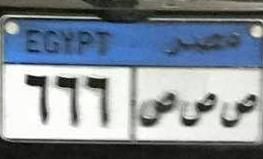6: (56, 73, 82, 126), (85, 74, 111, 126), (25, 73, 51, 124)
saad: (137, 92, 179, 127), (180, 91, 219, 128), (221, 93, 260, 127)
